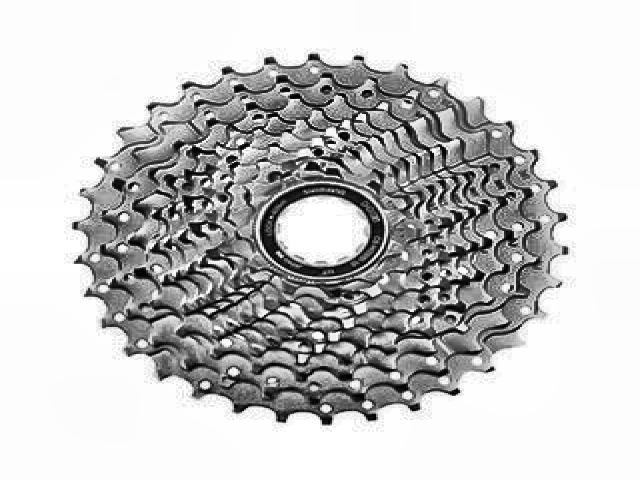cassette: (69, 47, 572, 420)
